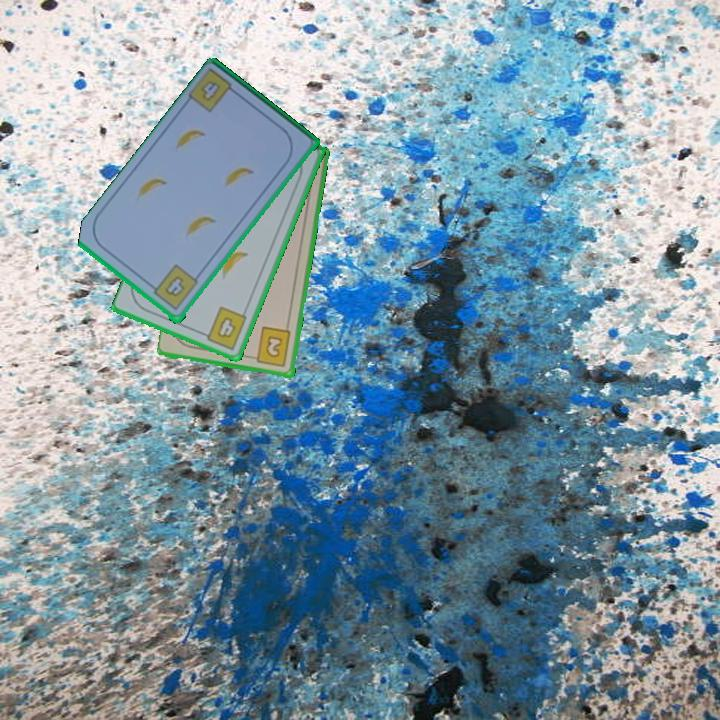2b: (247, 324, 294, 370)
4b: (147, 261, 201, 314), (186, 66, 242, 117), (198, 303, 250, 353)
